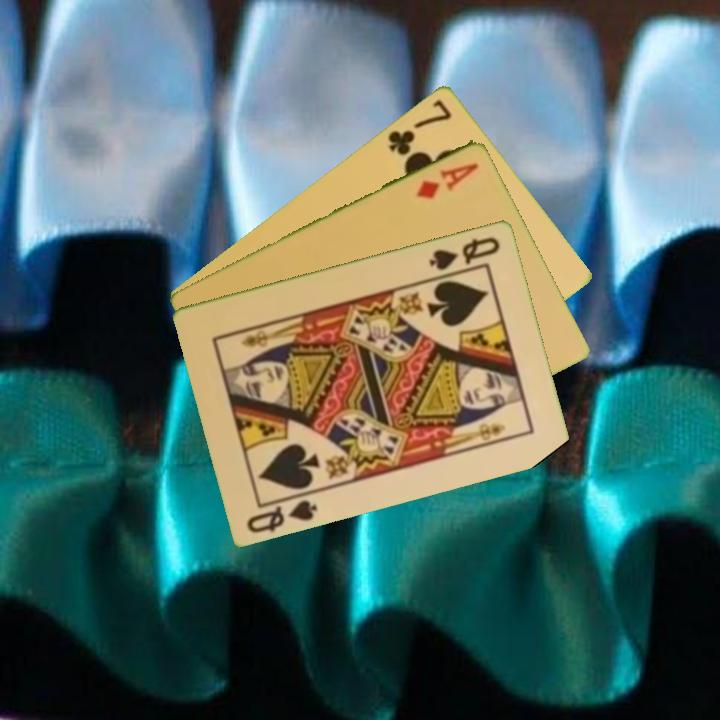7c: (384, 95, 455, 158)
Ad: (412, 158, 482, 202)
Qs: (425, 232, 503, 273), (243, 496, 321, 536)
